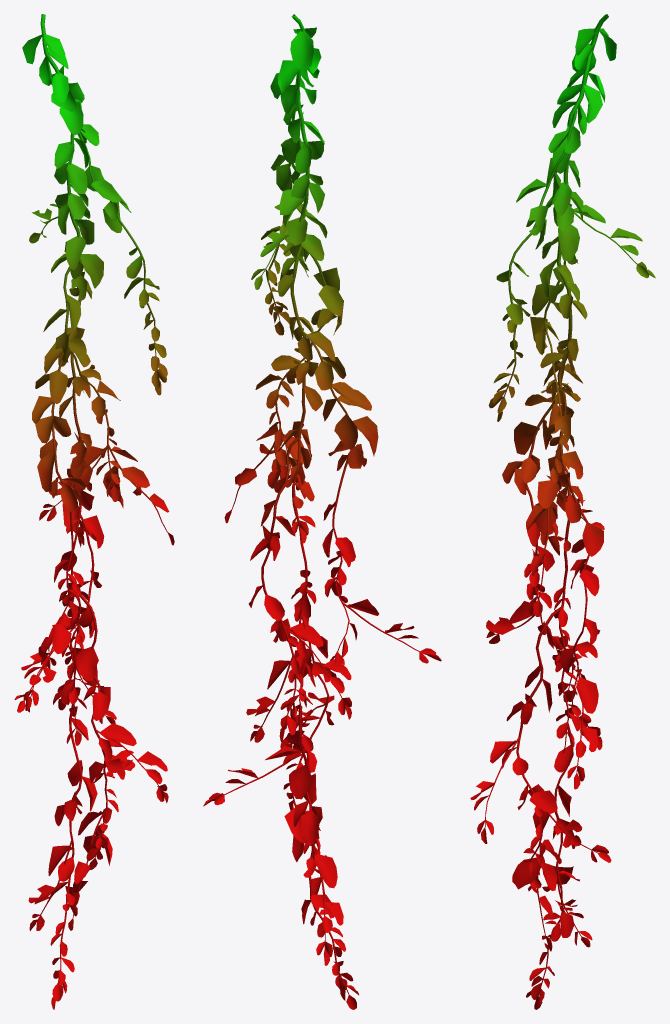
Rendered from Var8_LOD1.fbx.
The picture shows the model from 3 angles, left to right: view 1: azimuth 30°, elevation 25°; view 2: azimuth 150°, elevation 25°; view 3: azimuth 270°, elevation 25°; orthographic projection. The views are drawn at different scales.
Visible parts, largest first — view 1: _ef7y_Var8_LOD1; view 2: _ef7y_Var8_LOD1; view 3: _ef7y_Var8_LOD1.
Boxes of the visible parts, <box> form: _ef7y_Var8_LOD1: <box>14,14,174,1009</box>; _ef7y_Var8_LOD1: <box>203,14,441,1009</box>; _ef7y_Var8_LOD1: <box>470,14,655,1009</box>.
Bounding box in the file's own units: 42.05 × 215 × 35.98.
